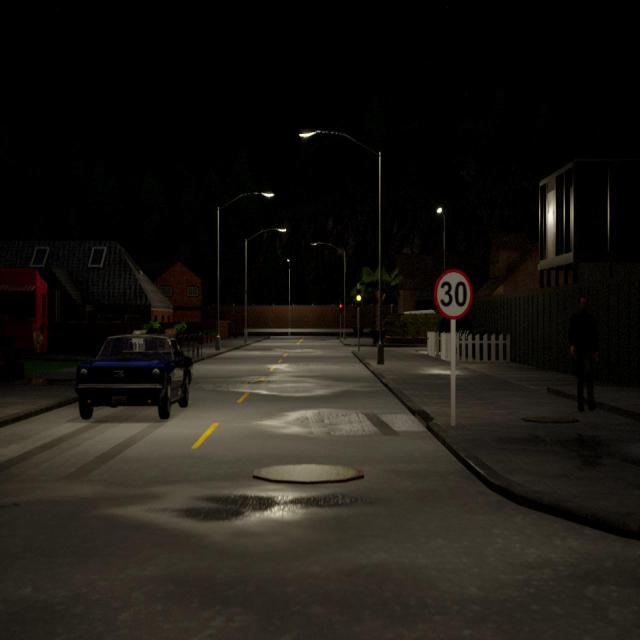Pedestrian: (568, 297, 598, 411)
Traffic_Signs: (433, 268, 475, 320)
Vehicle: (76, 334, 194, 421)
traffic_light: (356, 288, 362, 309), (338, 302, 343, 314)
